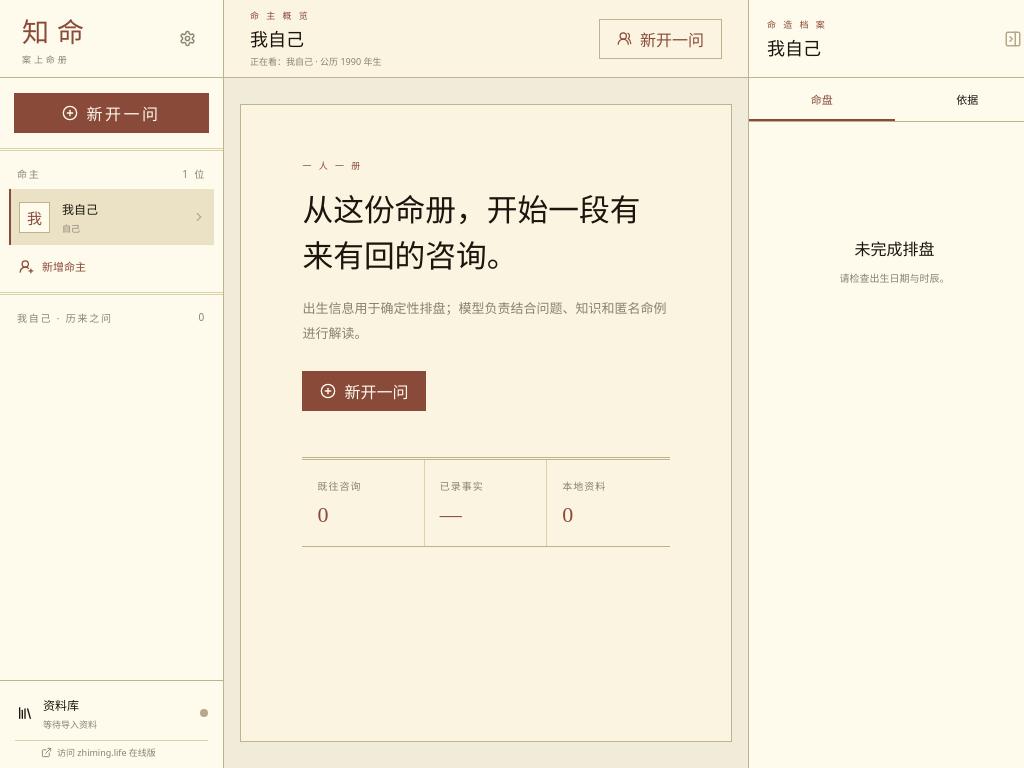
Test case: App › switches between knowledge and anonymized case imports
Click the button "资料库 等待导入资料". click: (108, 713)
box: [15, 692, 200, 734]
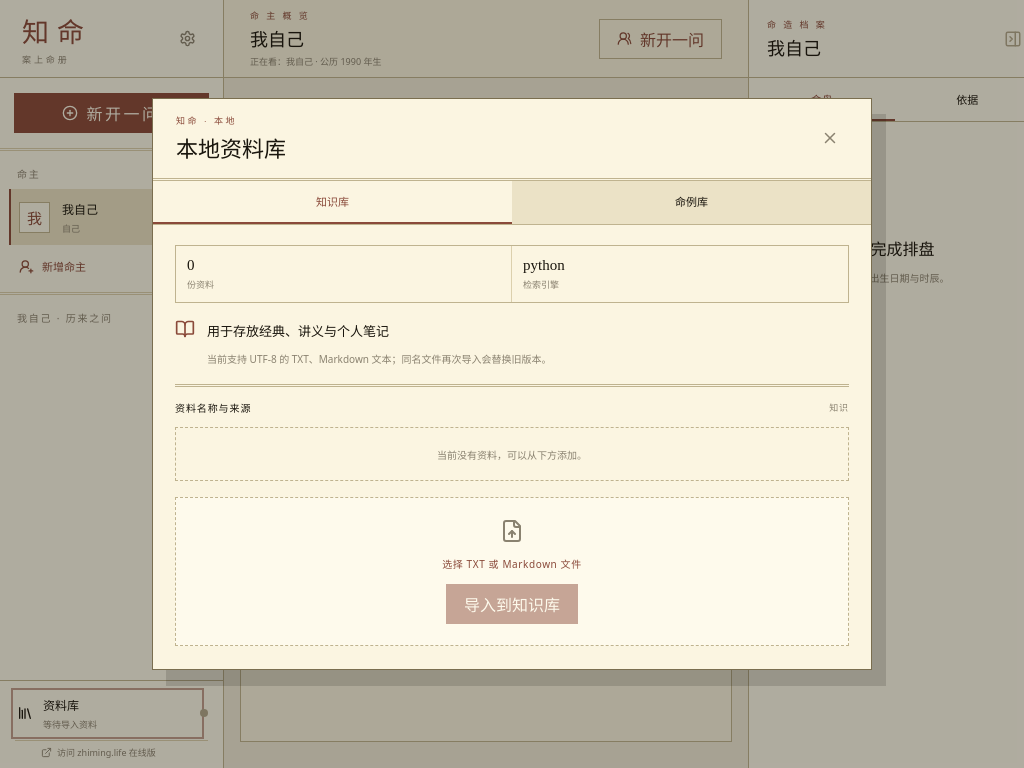
Click the button "命例库". click: (692, 202)
box: [512, 181, 871, 224]
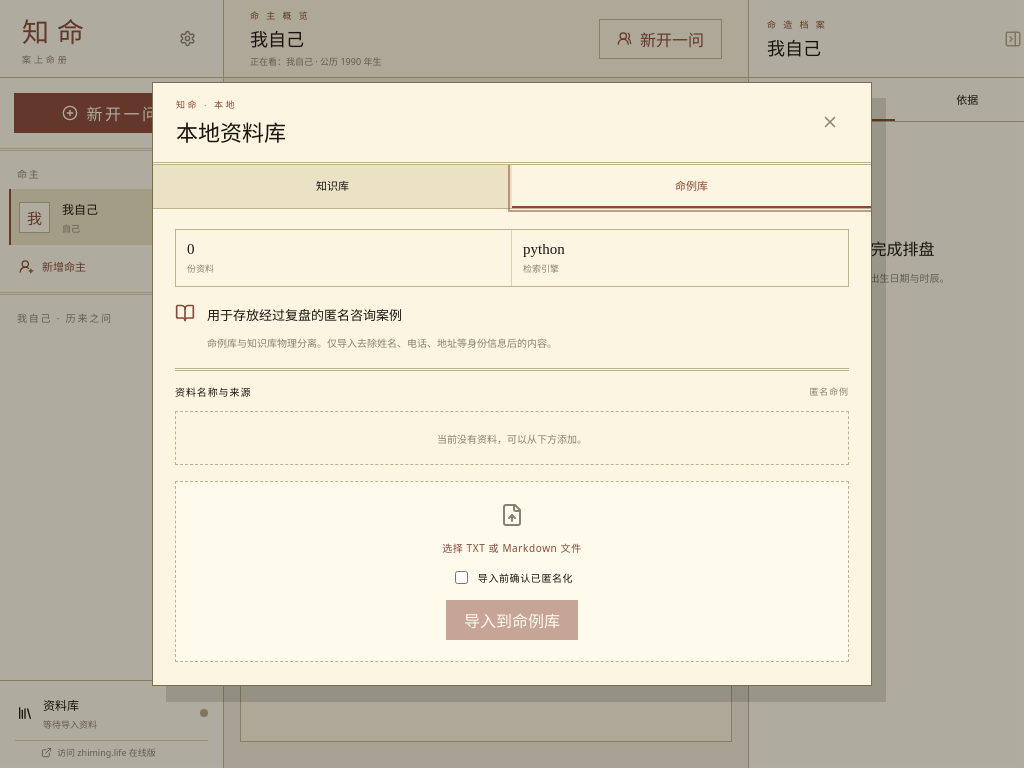
Expected: the text "导入前确认已匿名化" is shown, [451, 568, 573, 587]
